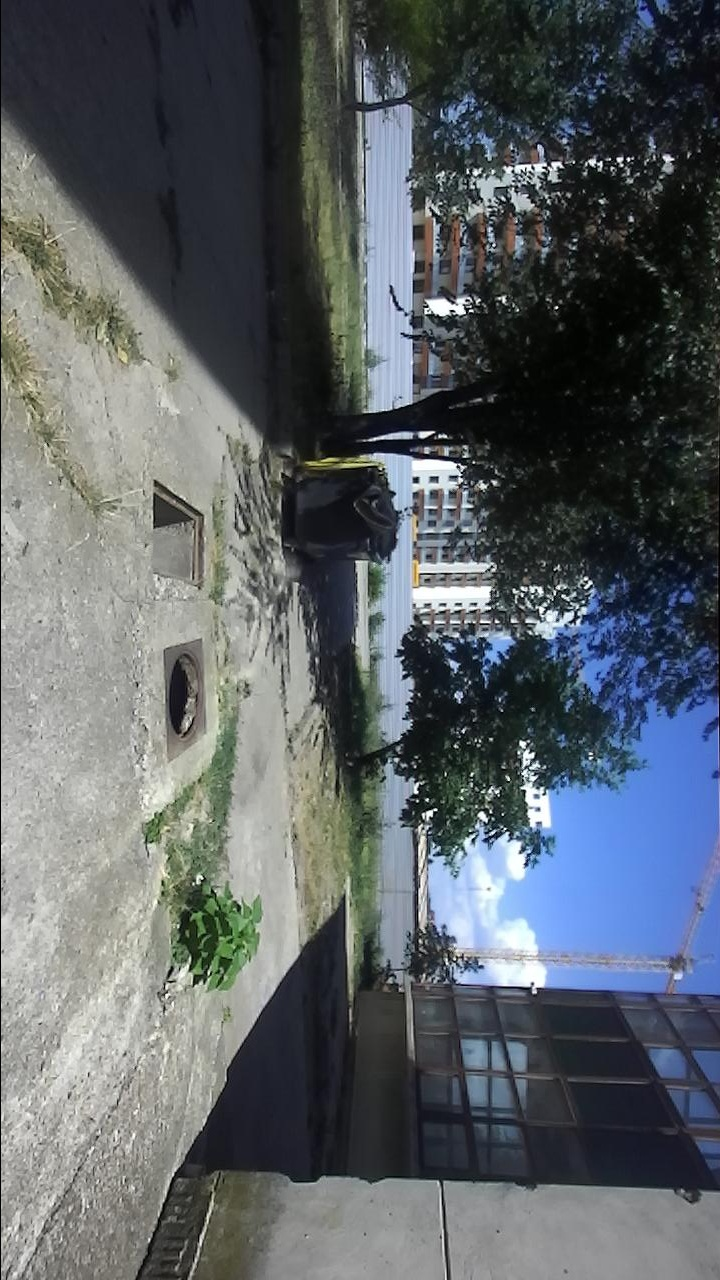drain: (147, 474, 207, 591), (161, 650, 204, 743)
